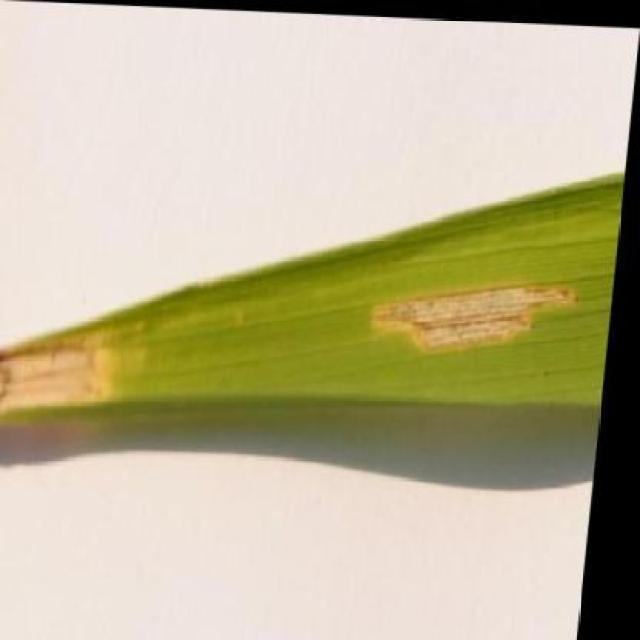Brown_Spot: (0, 138, 629, 457)
